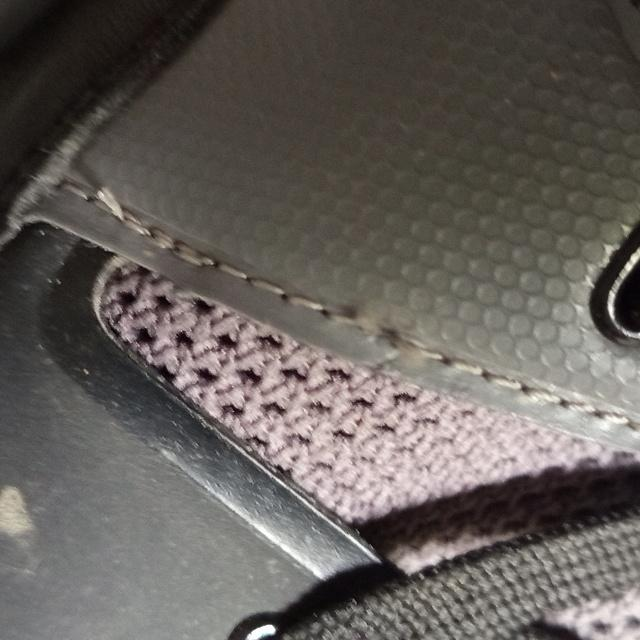broken: (354, 302, 421, 367)
